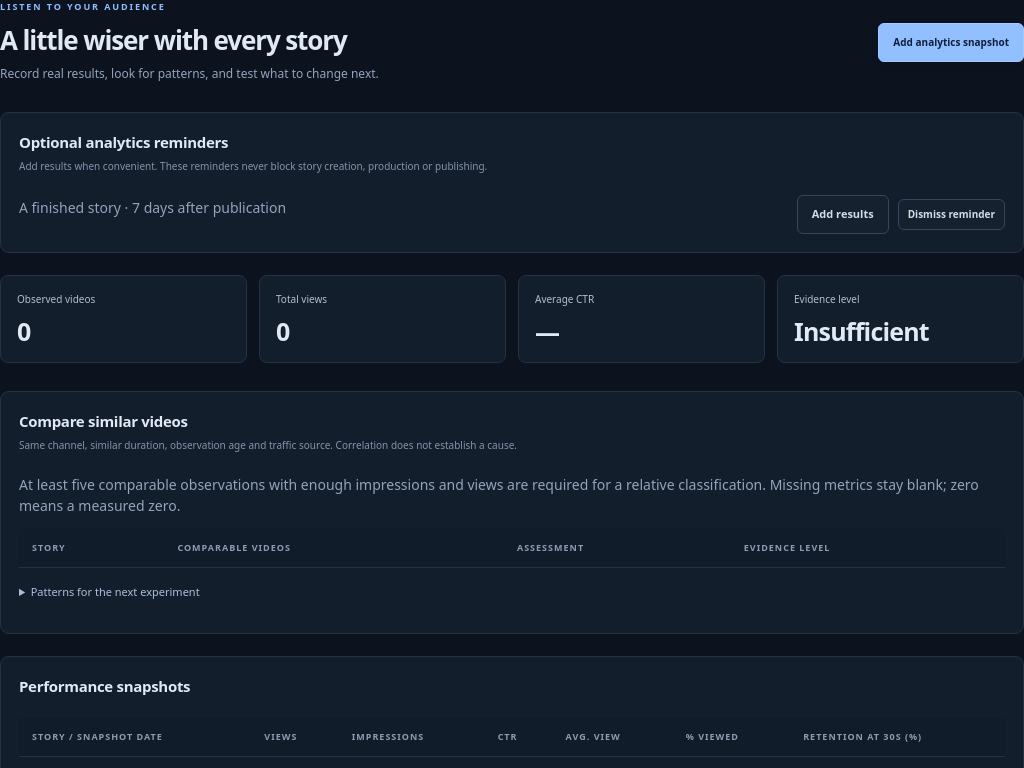
Test: prefills the historical observation date when adding a seven-day result later
Click the button "Add results".
click(843, 214)  # box [797,195,889,234]
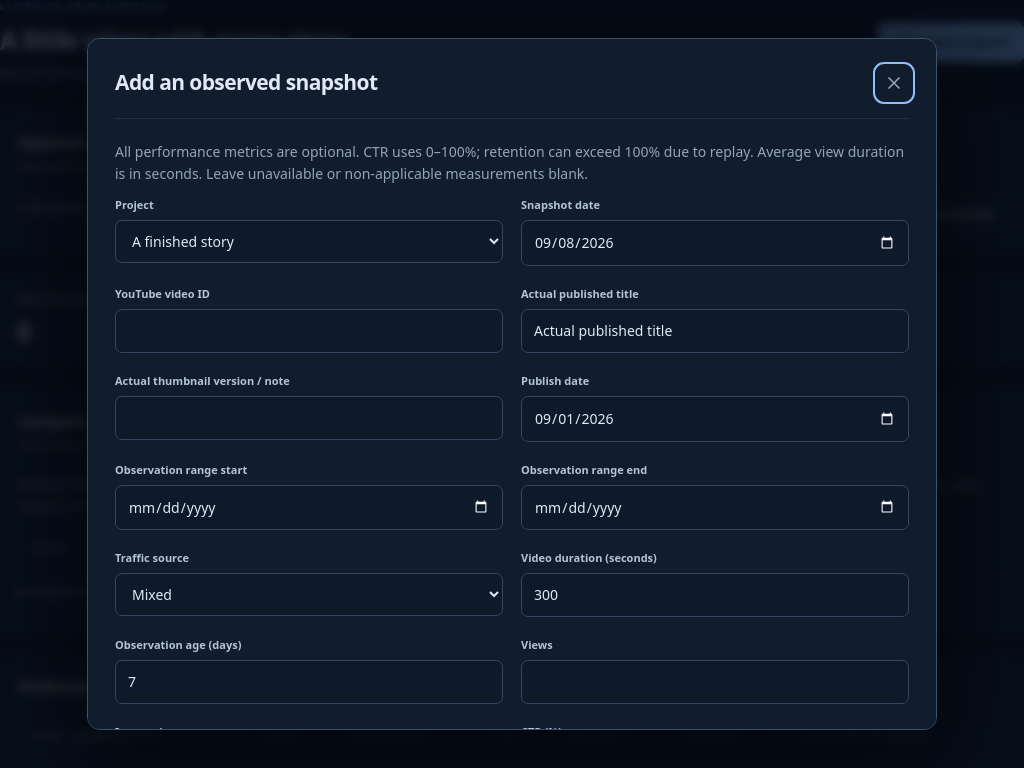
Expected: the date field labelled "Snapshot date" holds "2026-09-08", [521,220,909,266]
Expected: the number field labelled "Observation age (days)" holds "7", [115,660,503,704]
